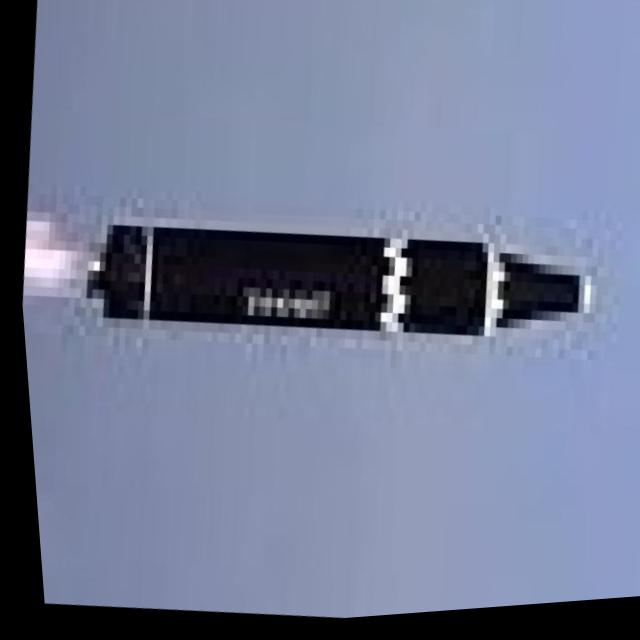missile: (70, 180, 640, 391)
